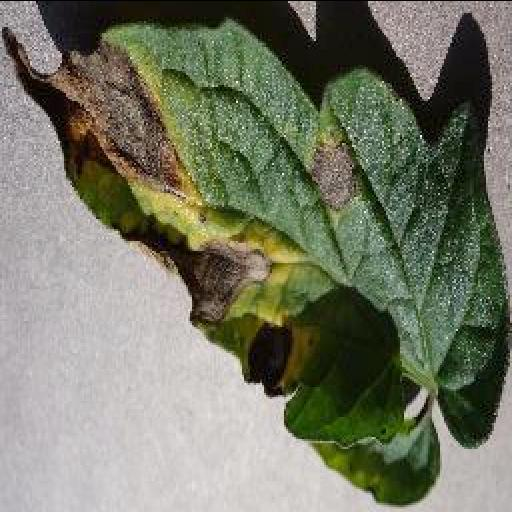disease_tomato: (4, 18, 512, 448)
